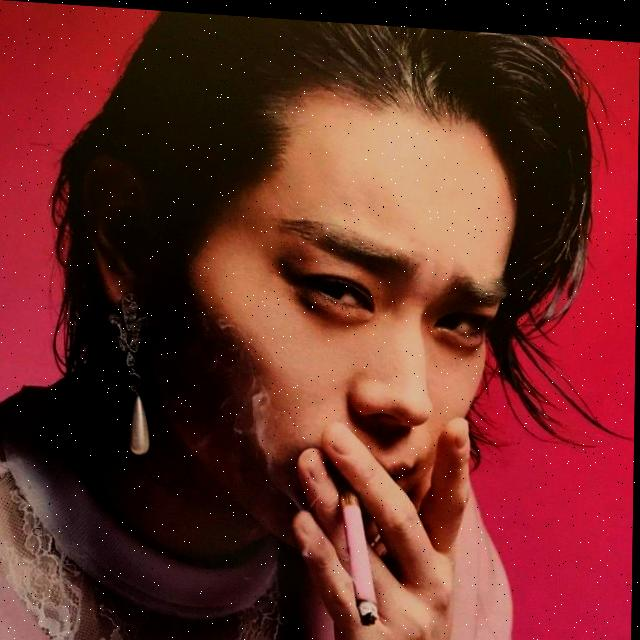cigarette: (338, 478, 384, 622)
